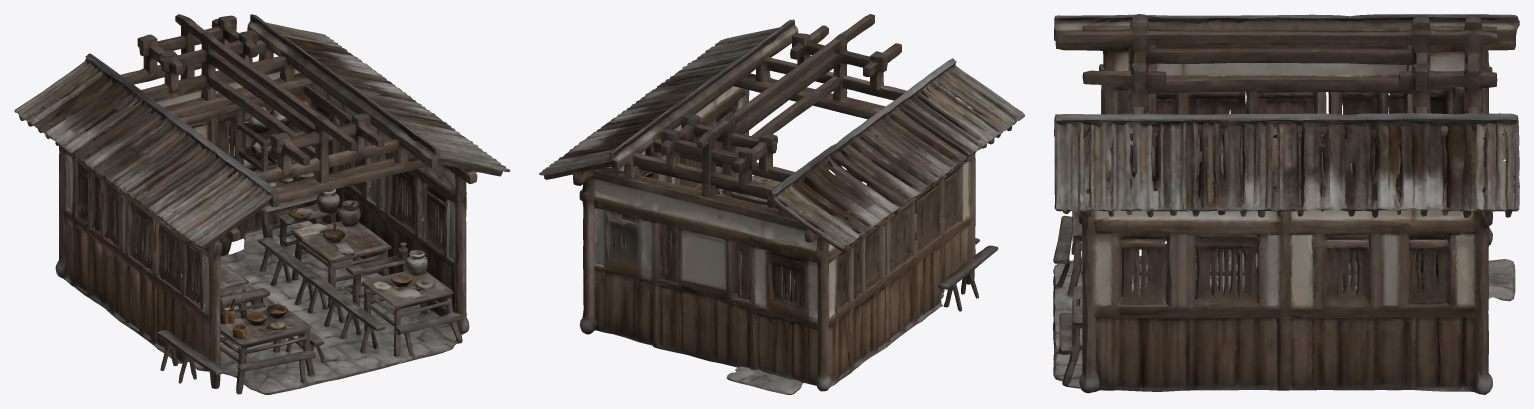
File: tavern_hd_opt.glb
The picture shows the model from 3 angles, left to right: view 1: azimuth 30°, elevation 25°; view 2: azimuth 150°, elevation 25°; view 3: azimuth 270°, elevation 25°; orthographic projection. The views are drawn at different scales.
Parts seen in each view (by area): view 1: geometry_0; view 2: geometry_0; view 3: geometry_0.
Part boxes in pixels (bbox=[...]): geometry_0: bbox=[14, 14, 510, 394]; geometry_0: bbox=[539, 14, 1024, 394]; geometry_0: bbox=[1053, 14, 1519, 394].
Size of the model in its own units: 0.8 by 0.5715 by 0.8287.
Materials: 1 (1 with a texture image).
